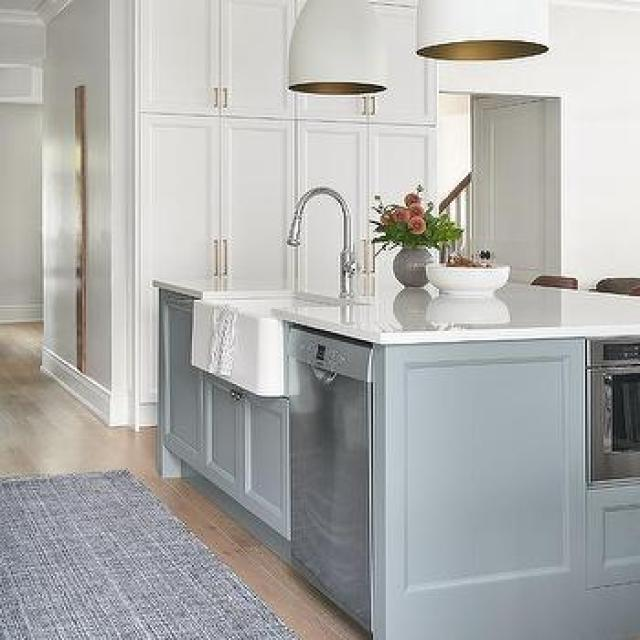dishwasher: (283, 323, 387, 638)
